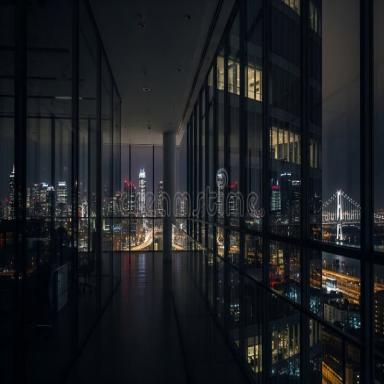glass_panel: (321, 0, 361, 249), (268, 1, 300, 242), (79, 7, 98, 252), (247, 4, 262, 230), (225, 3, 240, 228), (307, 3, 321, 243), (27, 118, 51, 238), (372, 1, 383, 256), (312, 250, 361, 302), (268, 308, 301, 382), (322, 190, 360, 245), (54, 121, 72, 228), (268, 239, 302, 294), (78, 120, 90, 248), (214, 266, 240, 324), (100, 48, 108, 232), (132, 146, 153, 215), (1, 119, 14, 220), (373, 264, 384, 382), (200, 83, 208, 233), (115, 86, 122, 217), (268, 240, 286, 290), (194, 94, 201, 220), (179, 124, 188, 217), (346, 340, 363, 383), (244, 231, 262, 267), (171, 222, 188, 250), (228, 230, 241, 260), (216, 227, 226, 259), (199, 222, 207, 250)
